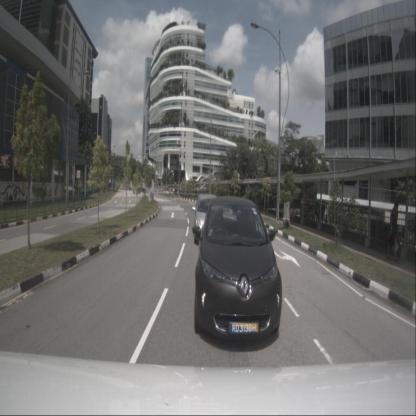human-pedestrian-adult: (387, 202, 401, 261)
vehicle-car: (193, 196, 282, 341), (194, 193, 224, 245)
